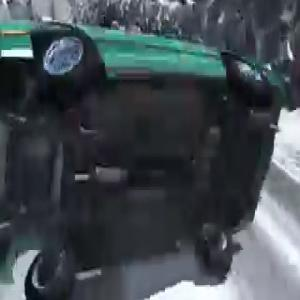severe: (0, 0, 291, 300)
